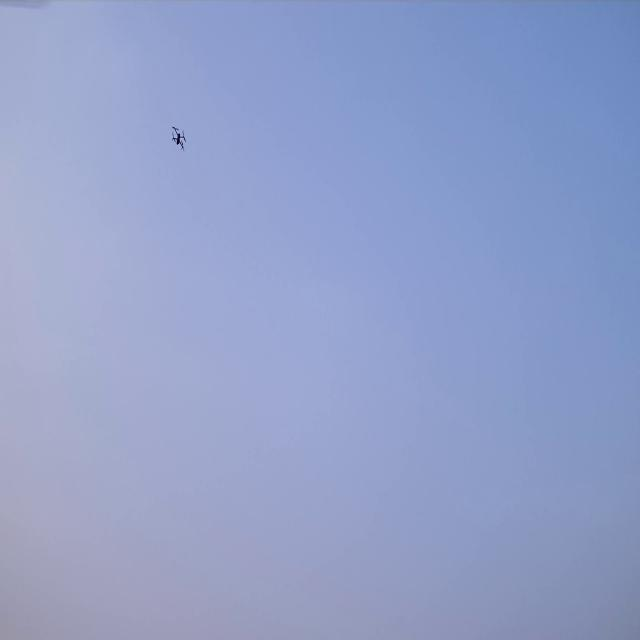UAV: (171, 123, 187, 153)
